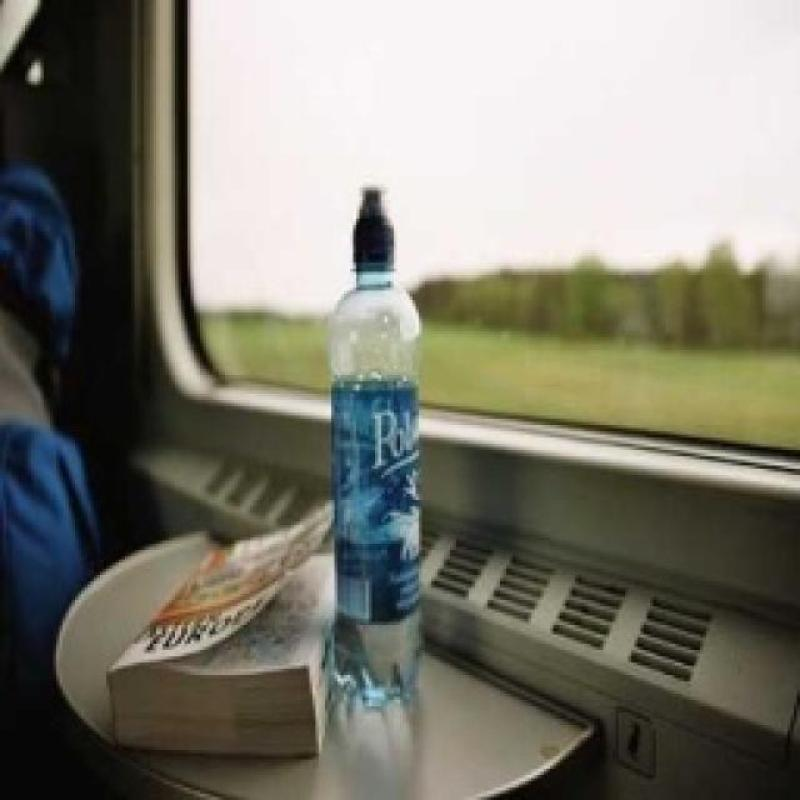botella: (322, 176, 434, 705)
